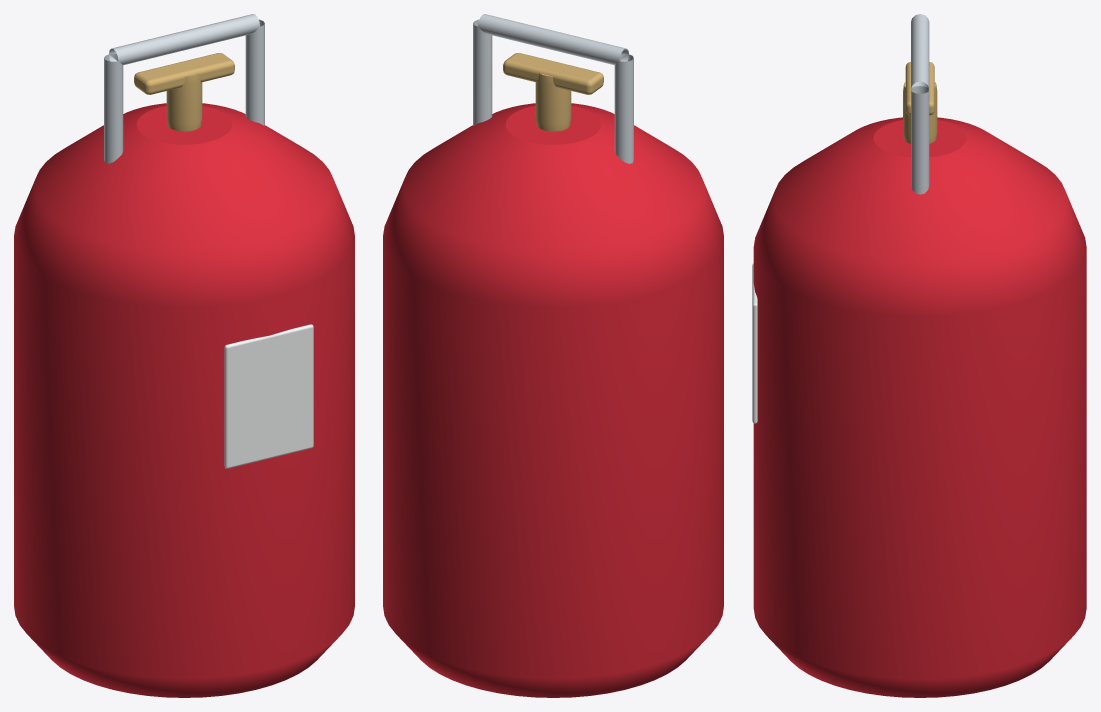
File: fire-gas-cylinder.glb
3 renders of one model, left to right at view 1: azimuth 30°, elevation 25°; view 2: azimuth 150°, elevation 25°; view 3: azimuth 270°, elevation 25°, orthographic. The views are drawn at different scales.
Parts seen in each view (by area): view 1: fire-gas-cylinder; view 2: fire-gas-cylinder; view 3: fire-gas-cylinder.
Part boxes in pixels (left/top/right/bottom): fire-gas-cylinder: left=14, top=14, right=354, bottom=697; fire-gas-cylinder: left=383, top=14, right=723, bottom=697; fire-gas-cylinder: left=752, top=14, right=1086, bottom=697.
Bounding box in the file's own units: 0.25 × 0.49 × 0.251.
